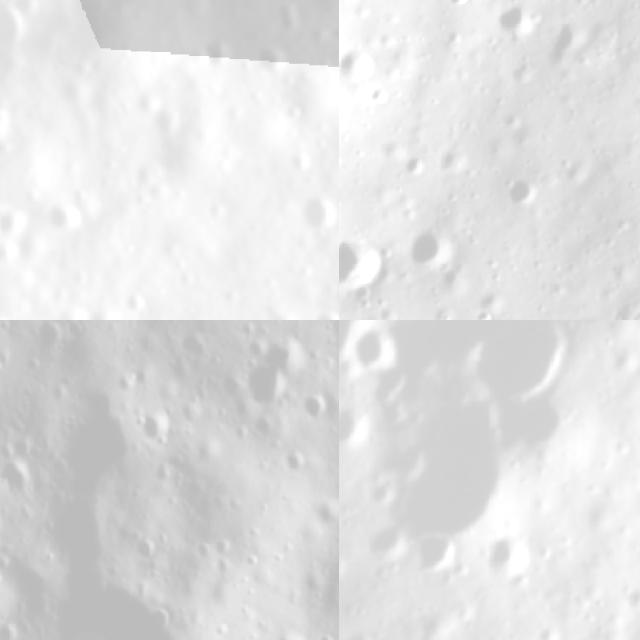crater: (366, 389, 505, 554), (13, 375, 149, 498), (373, 320, 573, 403), (35, 574, 195, 640), (479, 320, 571, 408), (282, 168, 339, 242), (244, 26, 302, 78), (339, 234, 386, 294), (401, 224, 459, 271), (540, 20, 592, 72), (242, 366, 288, 419), (0, 0, 39, 61), (411, 535, 462, 576), (493, 0, 542, 42), (351, 320, 394, 366), (486, 529, 533, 568), (76, 289, 135, 320), (339, 41, 379, 85), (504, 176, 545, 216), (305, 489, 339, 537), (298, 390, 335, 430), (339, 73, 363, 133), (277, 444, 313, 484), (474, 285, 514, 320), (438, 259, 476, 293), (307, 302, 339, 320), (266, 628, 313, 640)
